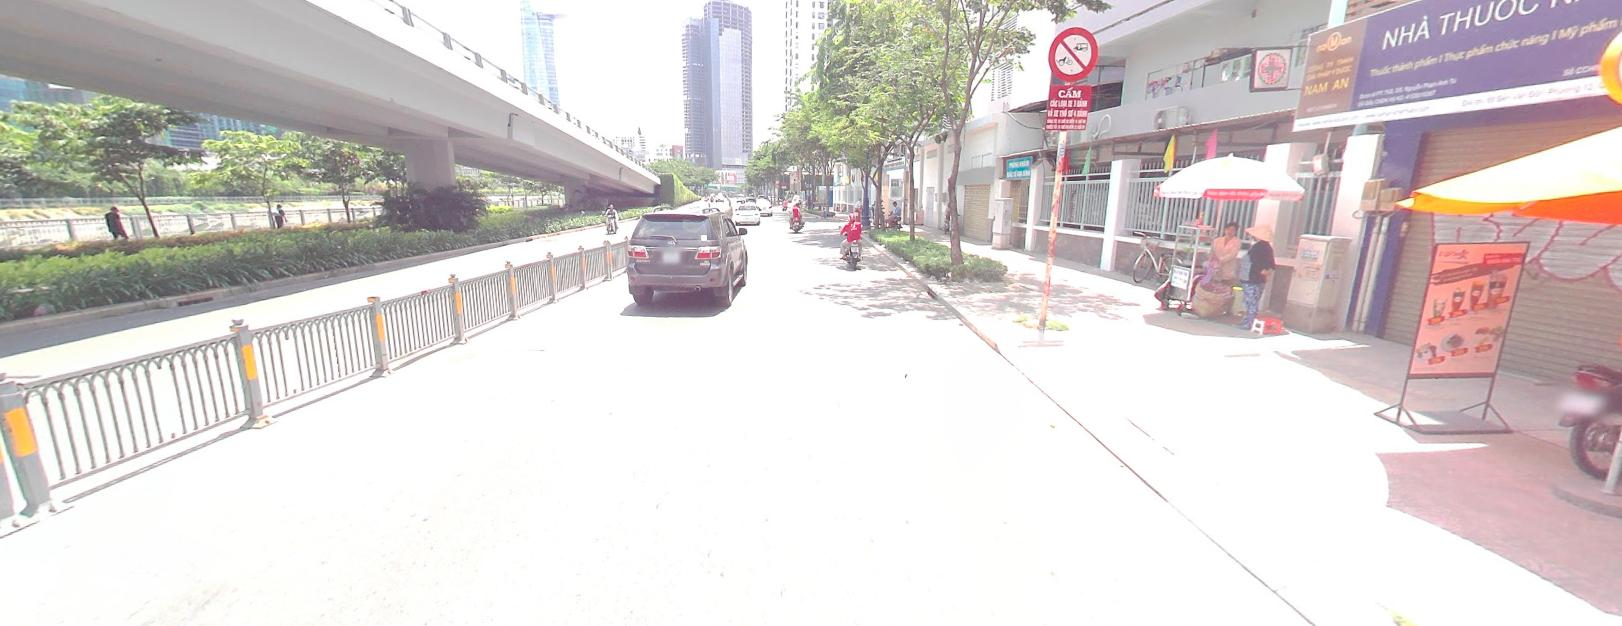Cam con lai: (1047, 25, 1099, 81)
Cam dung va do: (781, 180, 785, 184)
